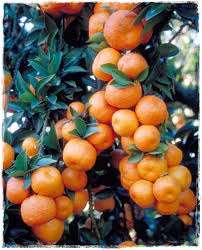orange: (104, 13, 152, 49), (89, 44, 121, 82), (105, 79, 145, 109), (62, 140, 97, 172), (136, 94, 171, 126), (30, 165, 63, 195), (88, 90, 115, 123), (111, 109, 138, 137), (134, 125, 162, 150)
